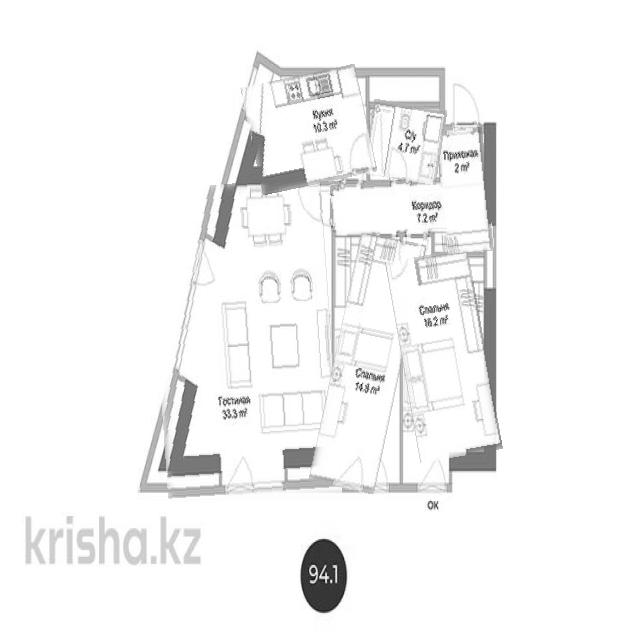bathroom: (366, 101, 444, 182)
hallway: (438, 128, 491, 254), (331, 179, 447, 234)
kitchen: (245, 70, 372, 190)
living_room: (153, 180, 337, 503), (321, 233, 414, 492), (394, 252, 495, 460)
